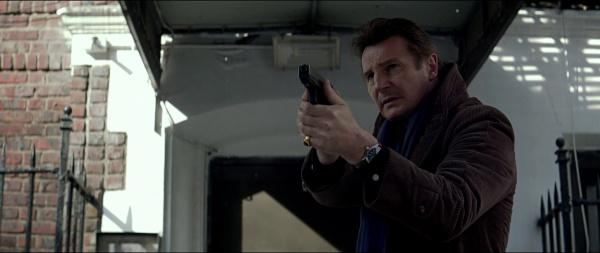Gun: (298, 63, 334, 107)
